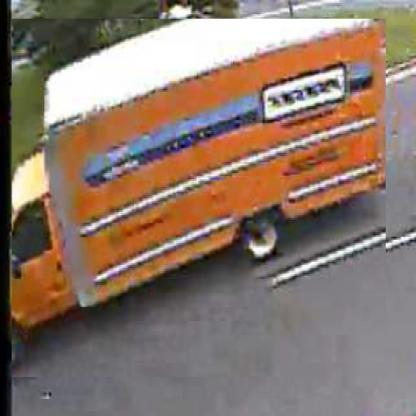truck: (12, 20, 387, 380)
